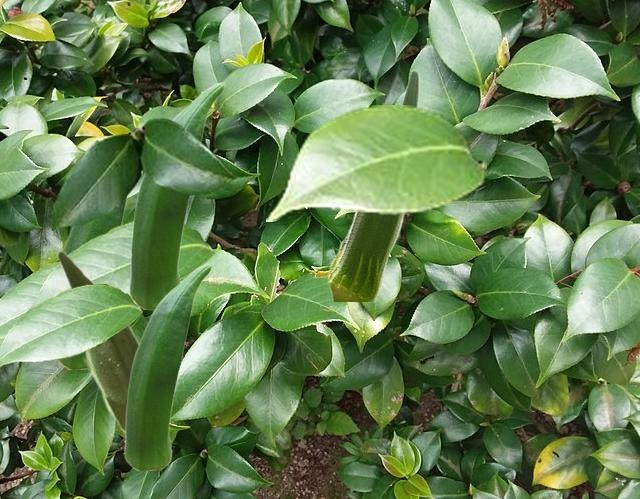okra: (128, 81, 225, 308), (327, 68, 419, 300), (123, 262, 212, 469), (56, 249, 138, 431), (57, 196, 128, 368)
